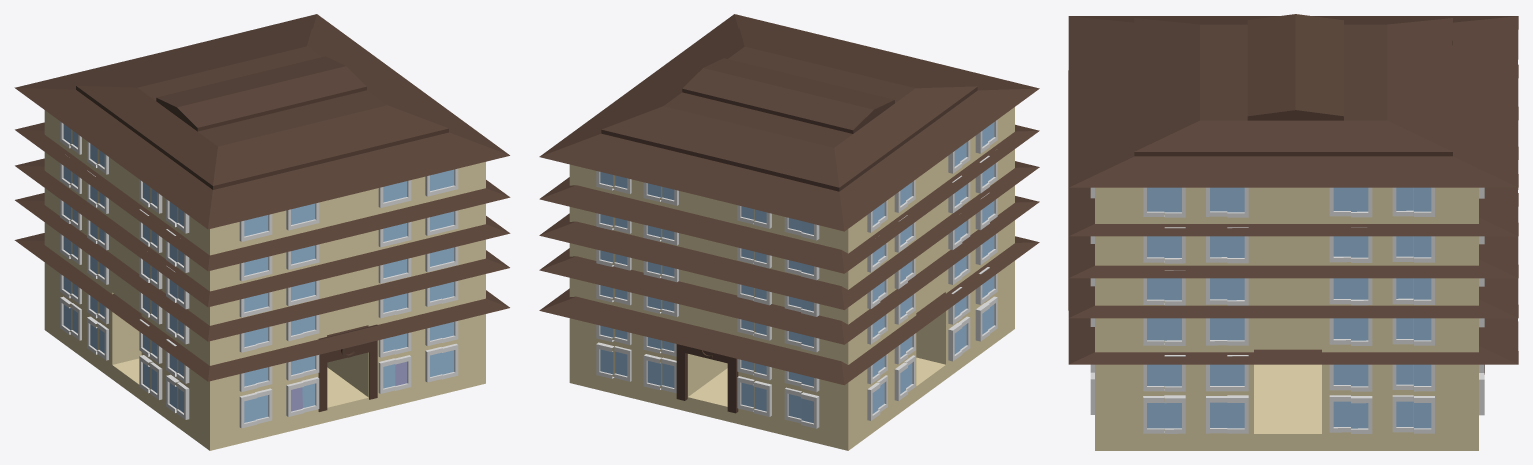
The model's file is Gedung_C 1.fbx.
3 views of the same model, side by side, from view 1: azimuth 30°, elevation 25°; view 2: azimuth 150°, elevation 25°; view 3: azimuth 270°, elevation 25° (orthographic). The views are drawn at different scales.
Visible parts, largest first — view 1: Cube; view 2: Cube; view 3: Cube.
Part boxes in pixels (x1,y1,x2,y2): Cube: (14,14,510,450); Cube: (539,14,1039,450); Cube: (1068,14,1518,450).
Size of the model in its own units: 4358 by 3679 by 4832.
